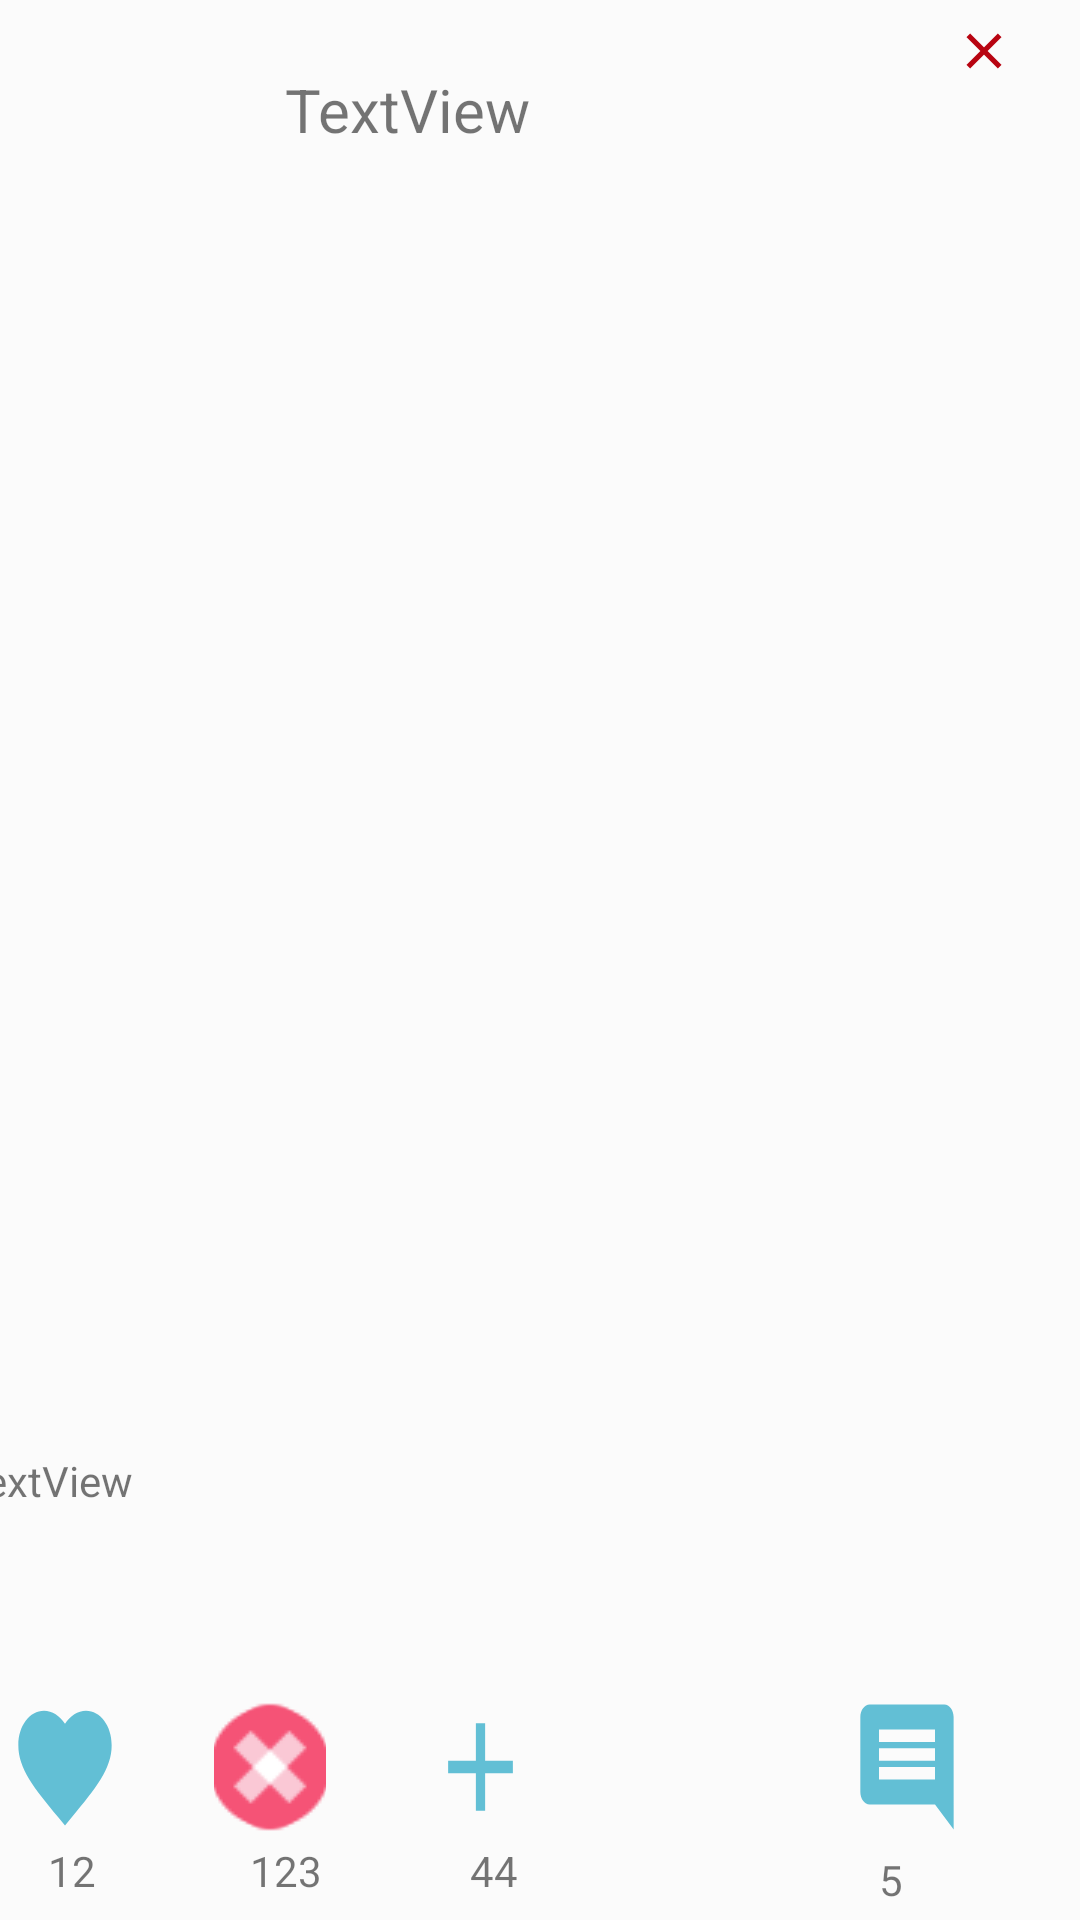

Point at icon controls on the screen. Image size 1080px x 1920px, points as (x=x, y=y).
close: (x=984, y=51)
comment: (x=907, y=1766)
complaint: (x=270, y=1767)
join: (x=480, y=1767)
like: (x=65, y=1767)
